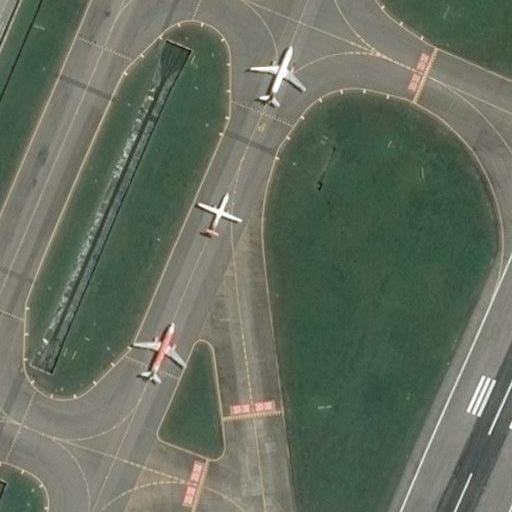Aircraft: (245, 39, 306, 108), (129, 317, 189, 386), (193, 188, 242, 239)
